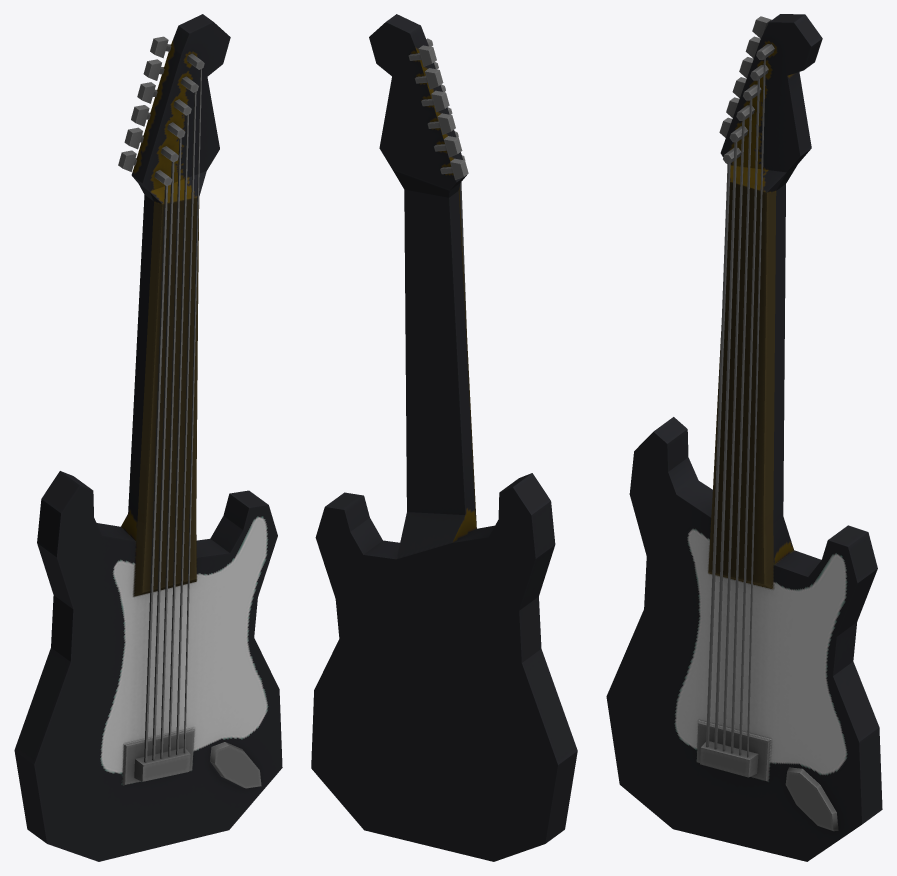
File: guitar.glb
The picture shows the model from 3 angles, left to right: view 1: azimuth 30°, elevation 25°; view 2: azimuth 150°, elevation 25°; view 3: azimuth 330°, elevation 25°; orthographic projection. The views are drawn at different scales.
Parts seen in each view (by area): view 1: ElectricGuitar_mesh; view 2: ElectricGuitar_mesh; view 3: ElectricGuitar_mesh.
Part boxes in pixels (bbox=[...]): ElectricGuitar_mesh: bbox=[14, 14, 282, 861]; ElectricGuitar_mesh: bbox=[311, 14, 577, 861]; ElectricGuitar_mesh: bbox=[606, 14, 882, 861].
Bounding box in the file's own units: 7.24 × 22.6 × 1.44.
Materials: 1 (1 with a texture image).
